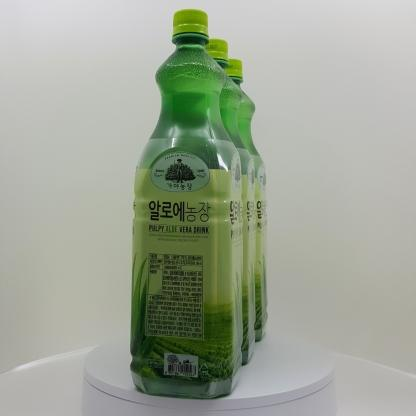-------1-5L: (130, 9, 243, 398)
